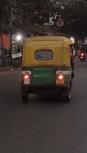Auto: (21, 35, 76, 103)
